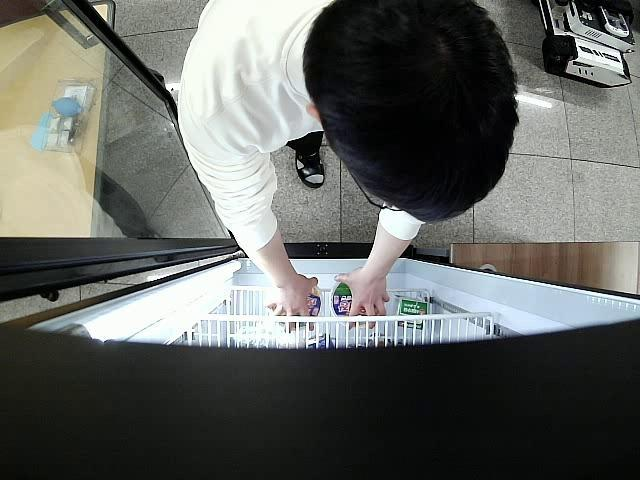09_yukGaeJang: (330, 282, 366, 325), (292, 286, 322, 328)
